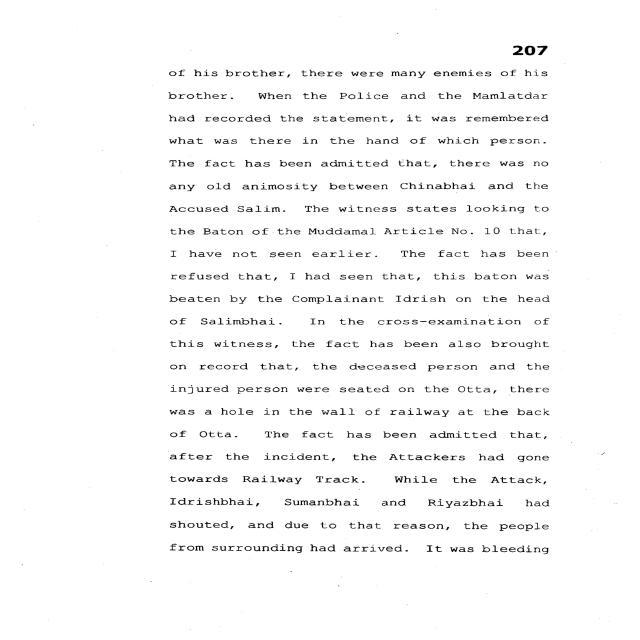page-number: (423, 0, 632, 60)
